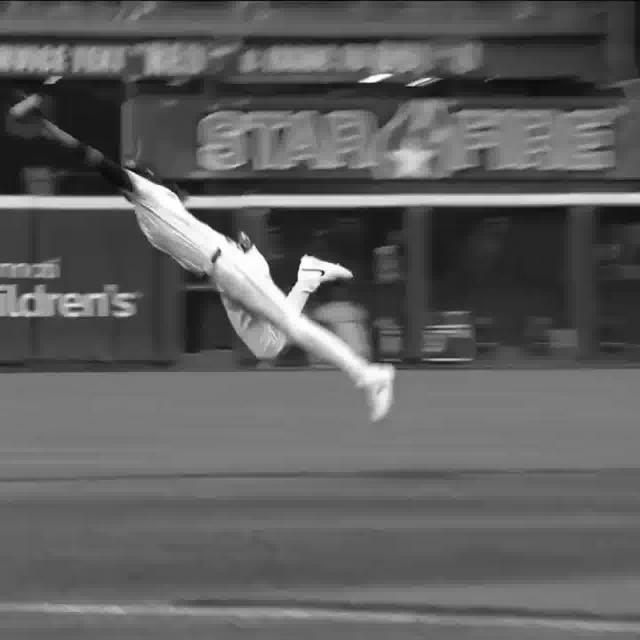baseball_glove: (1, 98, 62, 143)
shoe: (363, 365, 397, 424), (298, 254, 355, 287)
